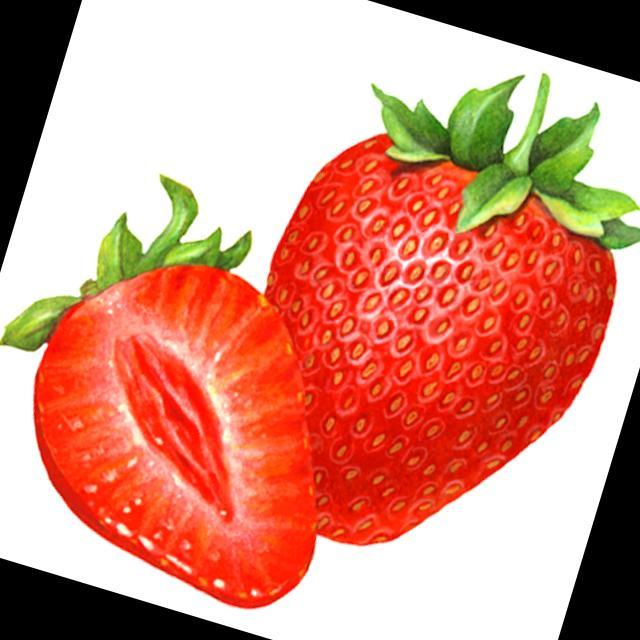strawberry: (266, 75, 640, 543), (1, 178, 315, 607)
